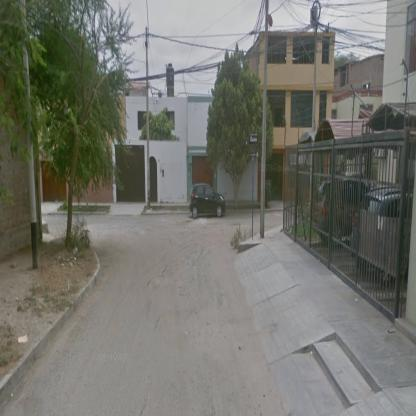Obstaculo: (148, 230, 264, 360), (142, 366, 286, 416)
Vehiculo: (190, 183, 227, 220)
